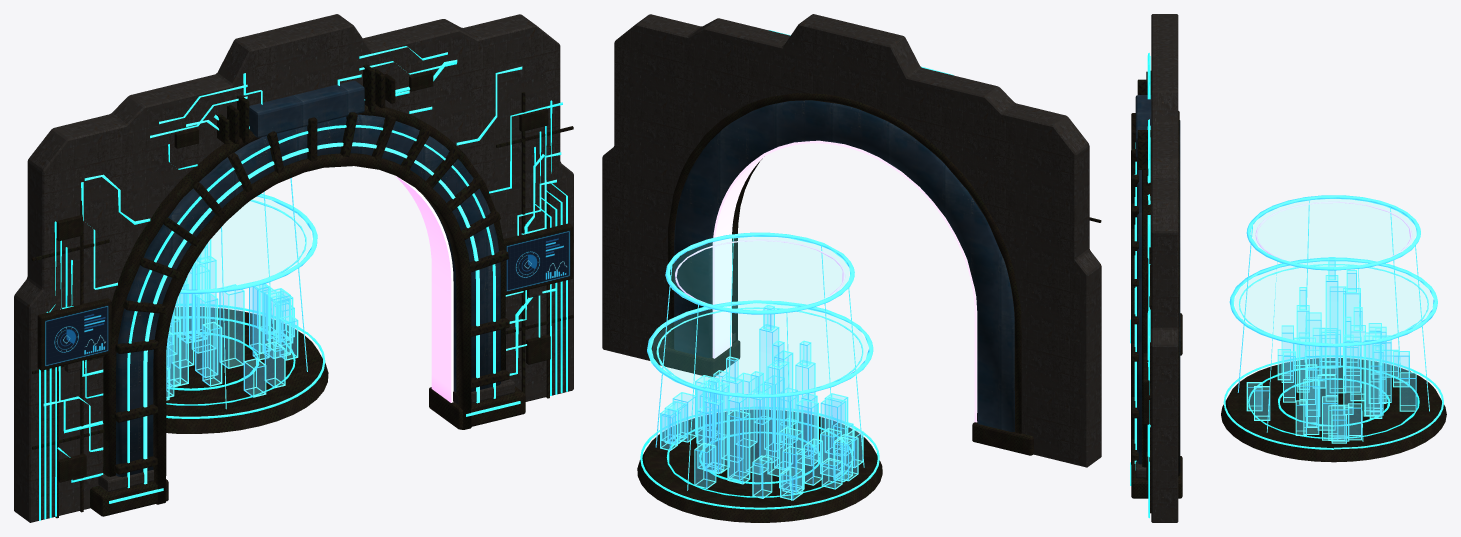
Rendered from fachada_03.glb.
3 renders of one model, left to right at view 1: azimuth 30°, elevation 25°; view 2: azimuth 150°, elevation 25°; view 3: azimuth 270°, elevation 25°, orthographic. The views are drawn at different scales.
Visible parts, largest first — view 1: F03_placa, F03_aro, F03_pedestal, F03_labio, F03_holo_vidros, F03_trilhas, F03_nervuras, F03_holo_arestas, F03_holo_disco0, F03_aro_ext, F03_friso_roxo, F03_topo (+14 smaller); view 2: F03_placa, F03_aro, F03_holo_vidros, F03_pedestal, F03_holo_disco0, F03_holo_arestas, F03_holo_disco1, F03_aro_ext, F03_friso_roxo, F03_holo_anel0, F03_holo_anel1, F03_pe1 (+7 smaller); view 3: F03_pedestal, F03_placa, F03_holo_vidros, F03_holo_disco0, F03_holo_disco1, F03_holo_arestas, F03_aro_ext, F03_aro, F03_holo_anel0, F03_holo_anel1, F03_feixes, F03_nervuras (+12 smaller).
Part boxes in pixels (x1,y1,x2,y2): F03_placa: (14,14,573,522); F03_aro: (116,114,500,477); F03_pedestal: (166,307,328,433); F03_labio: (153,153,471,504); F03_holo_vidros: (166,241,296,398); F03_trilhas: (39,46,567,520); F03_nervuras: (114,112,509,474); F03_holo_arestas: (166,239,298,400); F03_holo_disco0: (182,197,311,289); F03_aro_ext: (103,104,505,476); F03_friso_roxo: (394,175,453,402); F03_topo: (249,80,364,137); F03_placa: (602,14,1101,467); F03_aro: (674,100,1014,431); F03_holo_vidros: (661,306,862,498); F03_pedestal: (637,410,882,522); F03_holo_disco0: (652,304,867,393); F03_holo_arestas: (660,304,863,500); F03_holo_disco1: (671,236,849,309); F03_aro_ext: (667,93,1021,433); F03_friso_roxo: (712,140,977,422); F03_holo_anel0: (647,300,873,398); F03_holo_anel1: (665,232,854,314); F03_pe1: (654,340,740,376); F03_pedestal: (1221,358,1446,462); F03_placa: (1151,14,1178,522); F03_holo_vidros: (1248,258,1415,442); F03_holo_disco0: (1234,261,1432,343); F03_holo_disco1: (1251,198,1415,266); F03_holo_arestas: (1246,257,1416,443); F03_aro_ext: (1142,111,1179,476); F03_aro: (1137,120,1180,472); F03_holo_anel0: (1229,257,1437,347); F03_holo_anel1: (1246,195,1420,270); F03_feixes: (1237,199,1429,441); F03_nervuras: (1131,113,1138,460).
Bounding box in the file's own units: 12.1 × 8.9 × 7.43.
10 materials, 5 textured.
